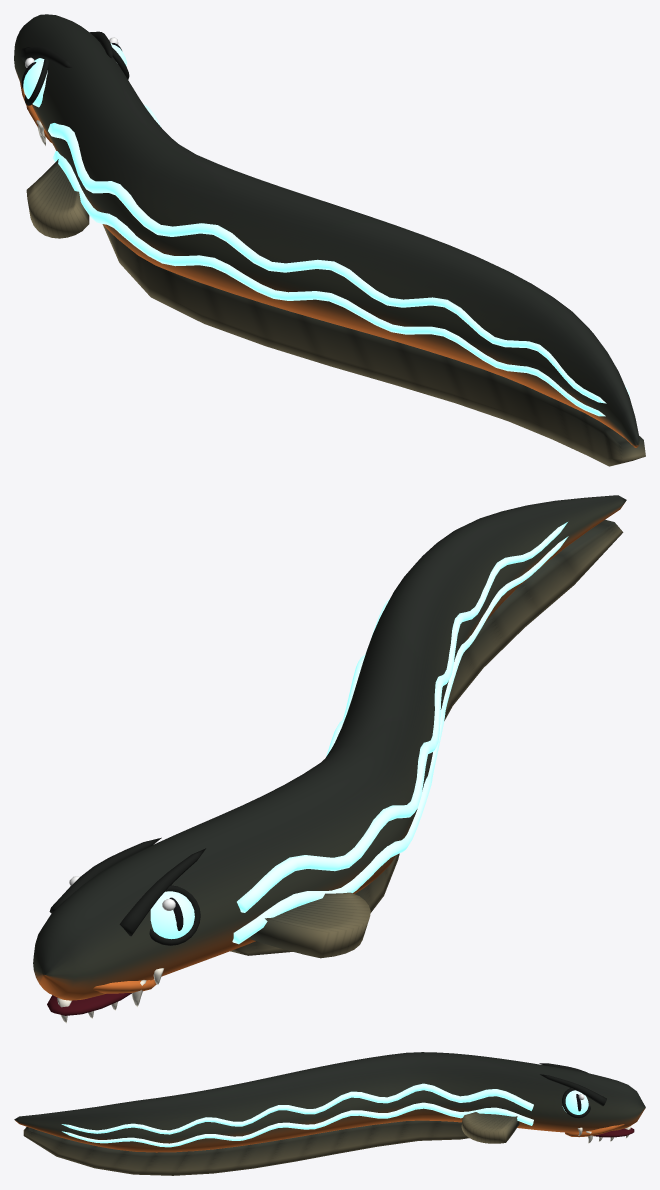
The model's file is ElectricEel.glb.
3 renders of one model, top to bottom at view 1: azimuth 30°, elevation 25°; view 2: azimuth 150°, elevation 25°; view 3: azimuth 270°, elevation 25°, orthographic. The views are drawn at different scales.
Visible parts, largest first — view 1: ElectricEel, ElectricEel_Glow; view 2: ElectricEel, ElectricEel_Glow; view 3: ElectricEel, ElectricEel_Glow.
Boxes of the visible parts, x1,y1,x2,y2 form: ElectricEel: (14, 14, 645, 466); ElectricEel_Glow: (23, 43, 629, 416); ElectricEel: (33, 495, 626, 1023); ElectricEel_Glow: (150, 522, 568, 944); ElectricEel: (14, 1052, 645, 1175); ElectricEel_Glow: (61, 1083, 588, 1147).
Size of the model in its own units: 1.1 by 0.6665 by 4.42.
Materials: 2 (1 with a texture image).
